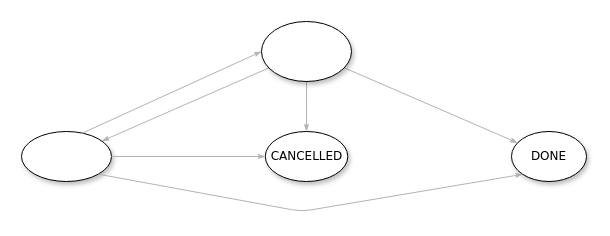
Some shapes in this 610 by 236 pixel diagram are drawn without their labels. Here are the shapes that lost their labels. From the top down, the centre of each, then its label:
point 307,52: TODO
point 67,157: IN_PROGRESS
